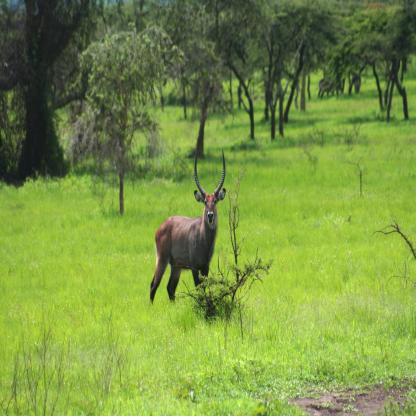Deer: (148, 147, 228, 316)
